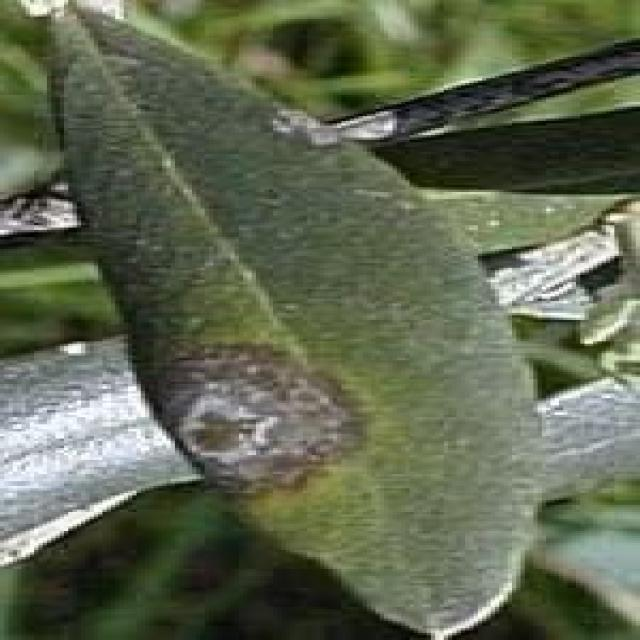Peacock Eye: (55, 9, 542, 638)
